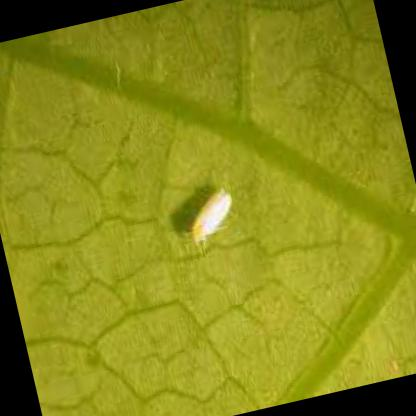whitefly: (192, 192, 232, 238)
